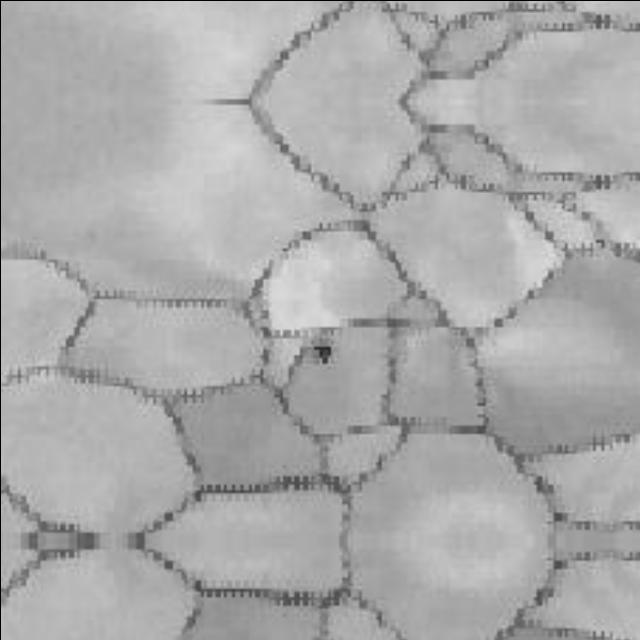good_void: (309, 340, 332, 364)
